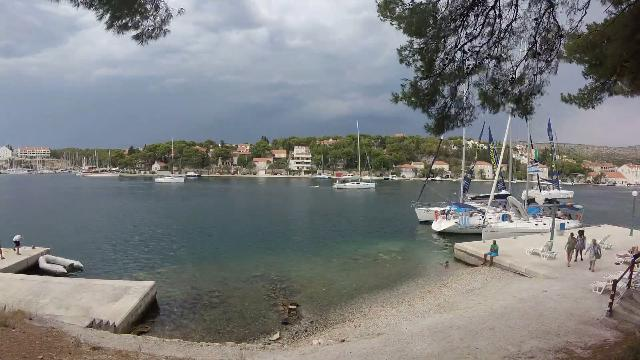Sailboat: (328, 174, 379, 194), (150, 171, 188, 185)
